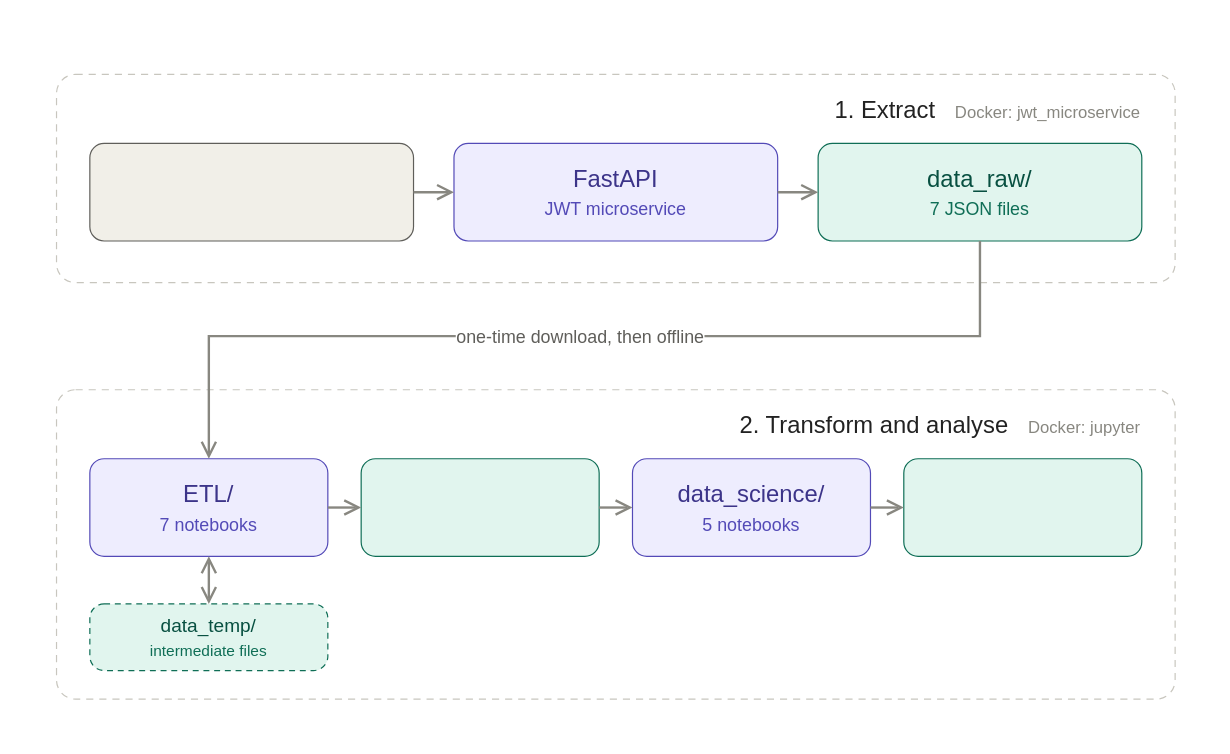
This 1230x754 diagram has some shape labels left out. Each missing label, with the centre of its shape:
"data_processed/ 3 JSON files" goes at pixel 479 507.
"Insights charts, Marp PDF" goes at pixel 1022 507.
"Wix Velo API (CMS content)" goes at pixel 251 191.
